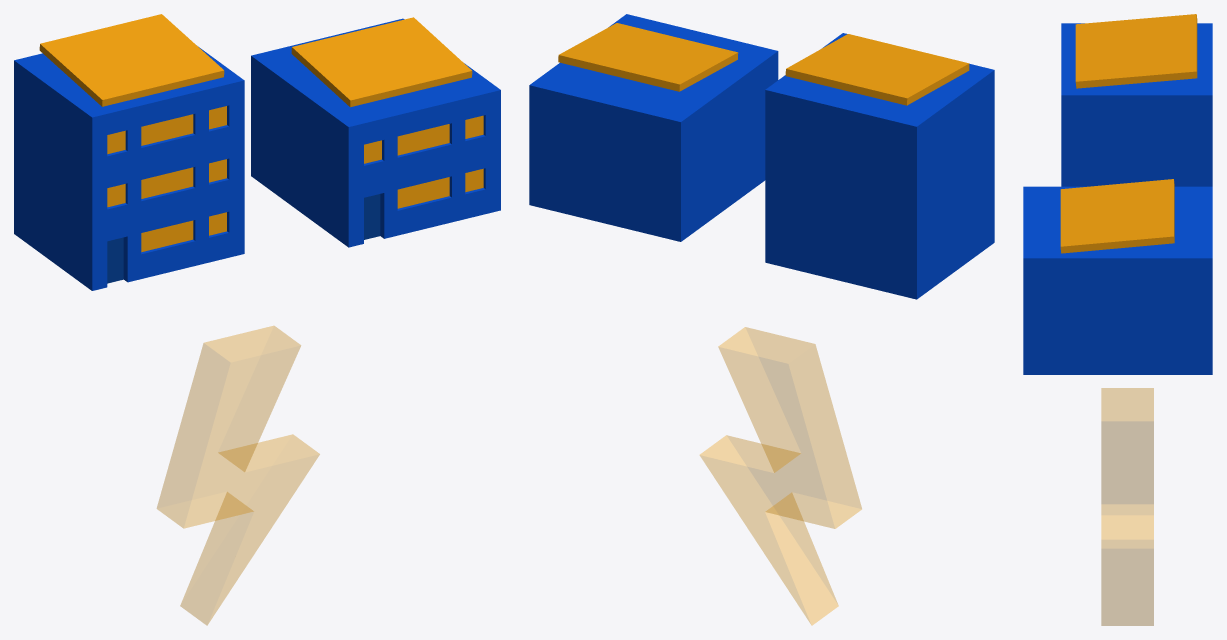
Rendered from binamevcut.gltf.
The picture shows the model from 3 angles, left to right: view 1: azimuth 30°, elevation 25°; view 2: azimuth 150°, elevation 25°; view 3: azimuth 270°, elevation 25°; orthographic projection. The views are drawn at different scales.
Visible parts, largest first — view 1: Building_001_RoofCap_0.004, Building_007_RoofCap_0.004, şimsek1, Building_001.010, Building_007.012; view 2: Building_001_RoofCap_0.004, Building_007_RoofCap_0.004, şimsek1; view 3: Building_007_RoofCap_0.004, Building_001_RoofCap_0.004, şimsek1.
Boxes of the visible parts, x1,y1,x2,y2 form: Building_001_RoofCap_0.004: [14, 14, 244, 290]; Building_007_RoofCap_0.004: [251, 17, 500, 247]; şimsek1: [157, 326, 319, 625]; Building_001.010: [107, 106, 226, 252]; Building_007.012: [364, 115, 483, 208]; Building_001_RoofCap_0.004: [765, 33, 994, 299]; Building_007_RoofCap_0.004: [529, 14, 778, 241]; şimsek1: [700, 327, 861, 625]; Building_007_RoofCap_0.004: [1023, 179, 1212, 374]; Building_001_RoofCap_0.004: [1061, 14, 1212, 186]; şimsek1: [1101, 388, 1153, 625].
Size of the model in its own units: 0.125 by 0.1764 by 0.0543.
